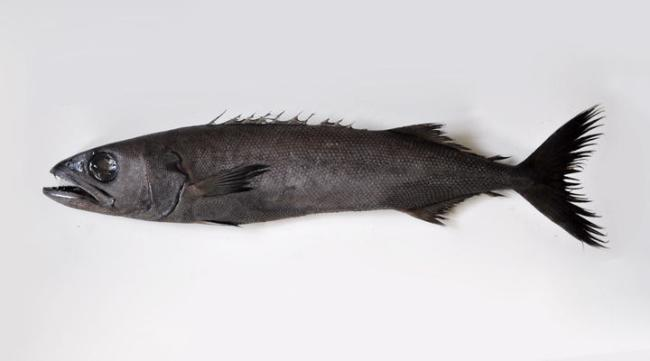fish: (42, 111, 613, 250)
